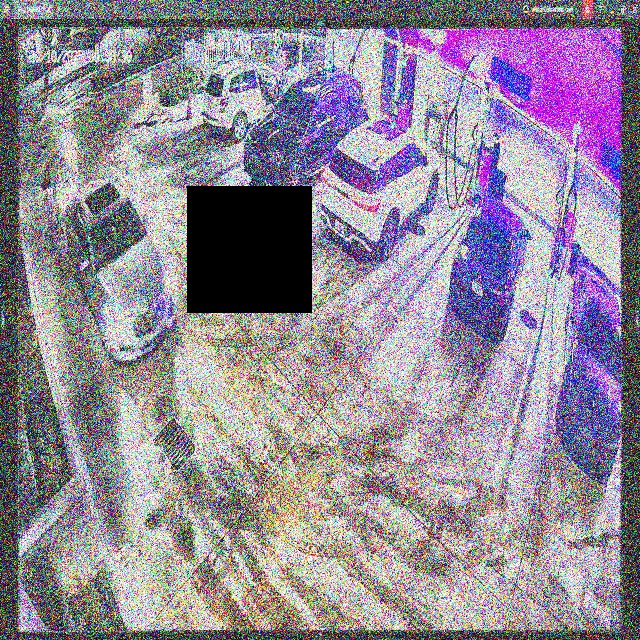Car: (65, 170, 179, 361), (319, 114, 440, 257), (242, 65, 368, 197), (448, 193, 531, 338)
